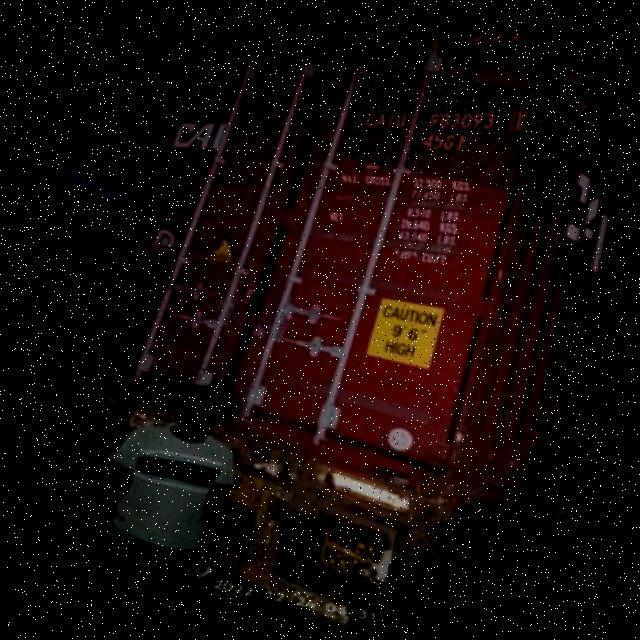container_number_h: (332, 54, 549, 201)
